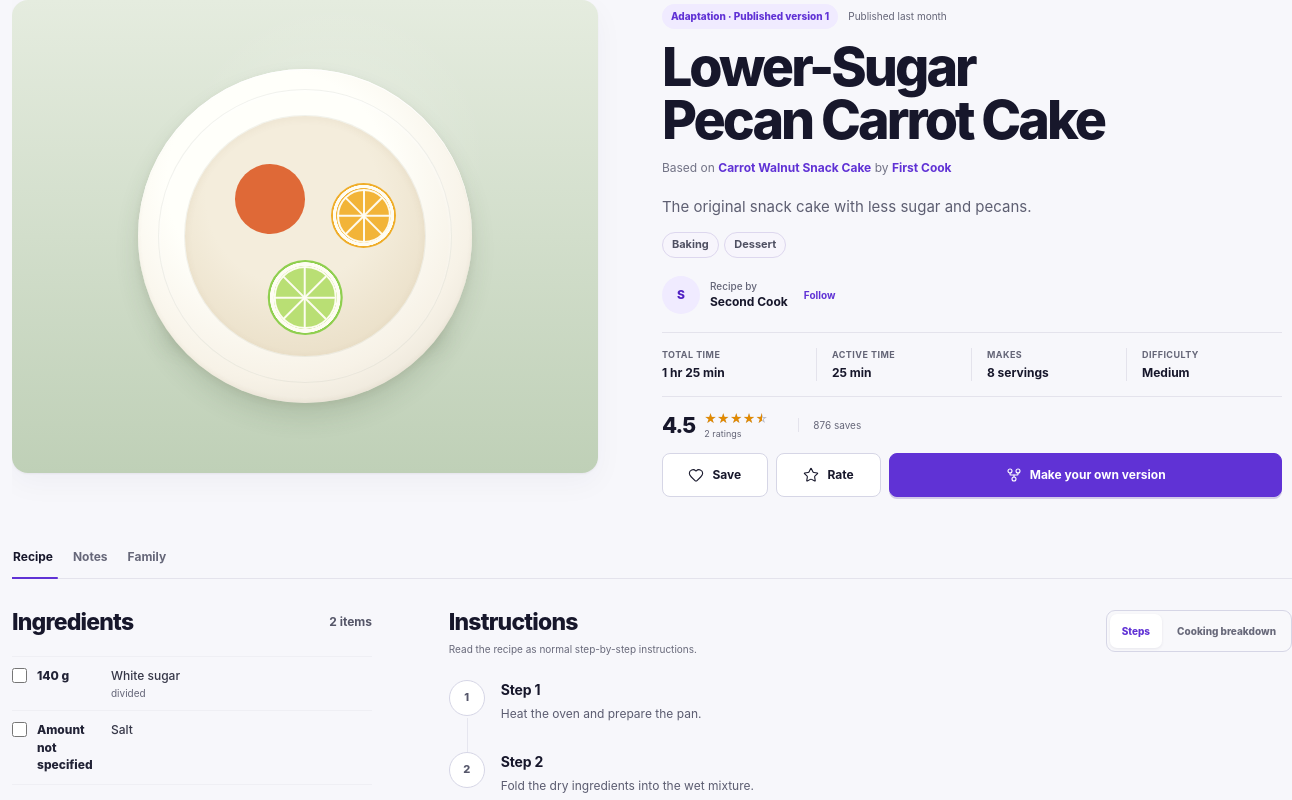
Test case: RecipeDetailView › renders authored recipe notes in the Notes tab
The width and height of the screenshot is (1292, 800).
Click the tab "Notes" at [90, 563], box [72, 548, 109, 578]
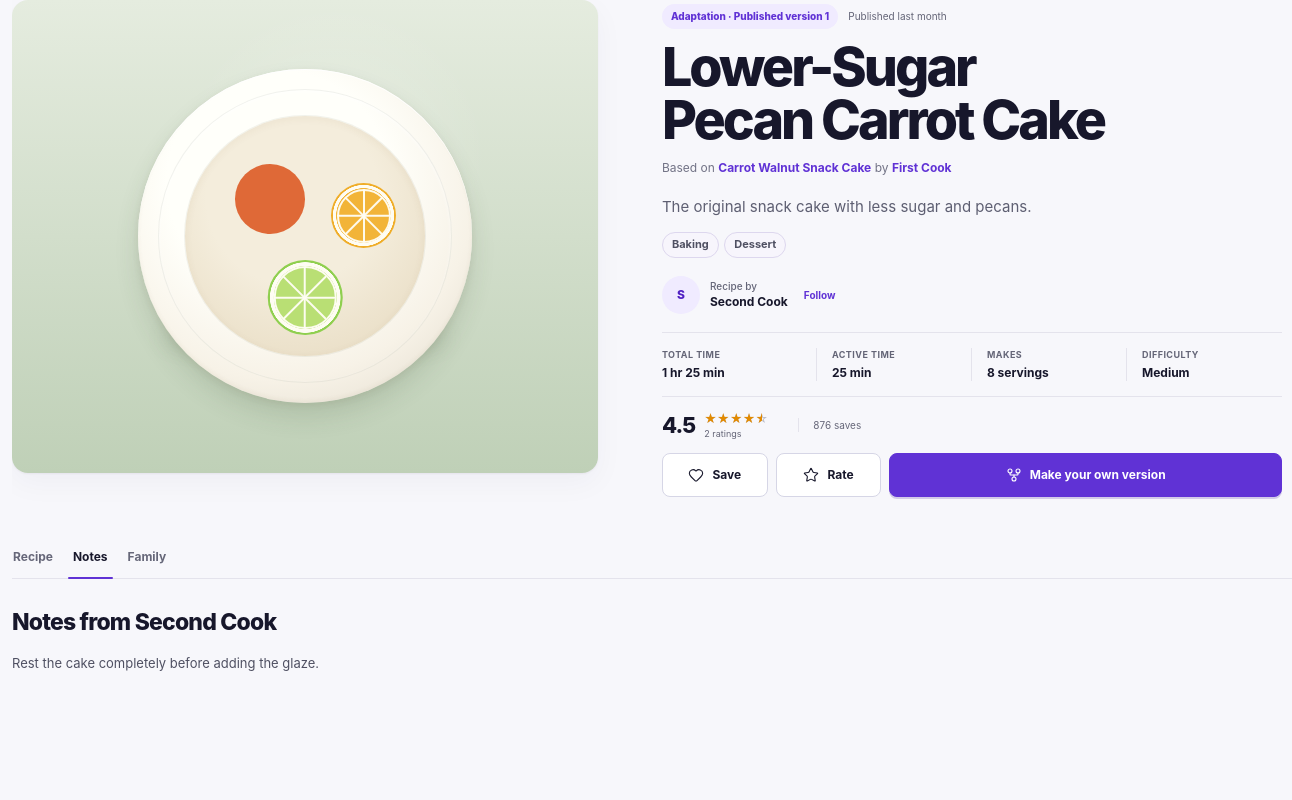
Expected: the text "Rest the cake completely before adding the glaze." is shown, [12, 655, 319, 671]
